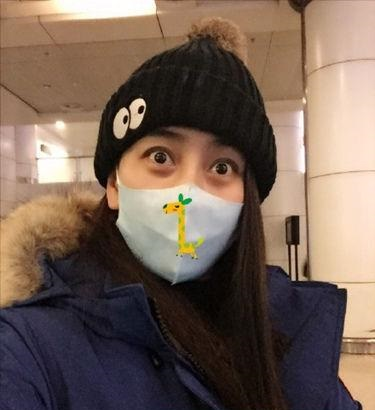face_mask: (117, 142, 243, 280)
